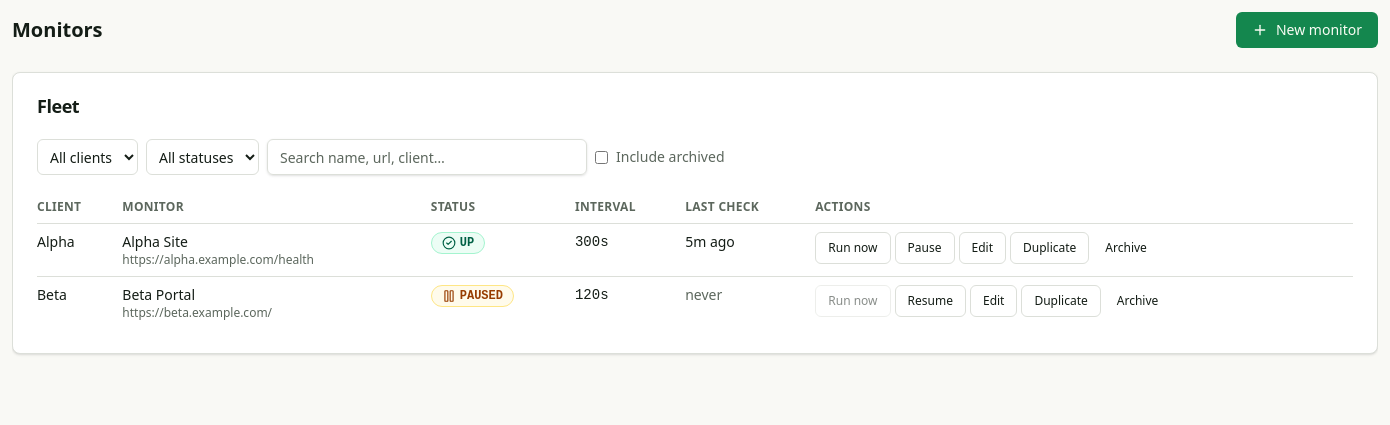
Scenario: MonitorsPage list (PRD §27.4) › resets a stale archived status filter when the include-archived toggle goes off (review I2)
This screenshot has width=1390, height=425.
Expected: the link "Alpha Site" is shown, [122,232,188,251]
Click the checkbox labelled "Include archived" at [602, 157], box [595,150,608,164]
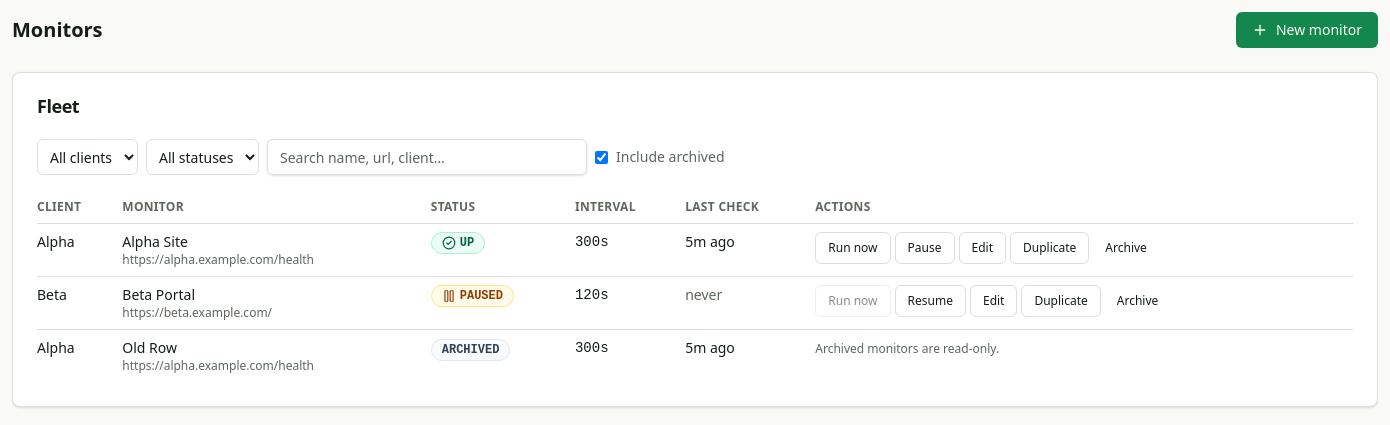
Expected: the link "Old Row" is shown, [122,338,177,357]
Select "Archived" in the 2nd dropdown named "Filter by status" at [202, 157], box [146,139,259,175]
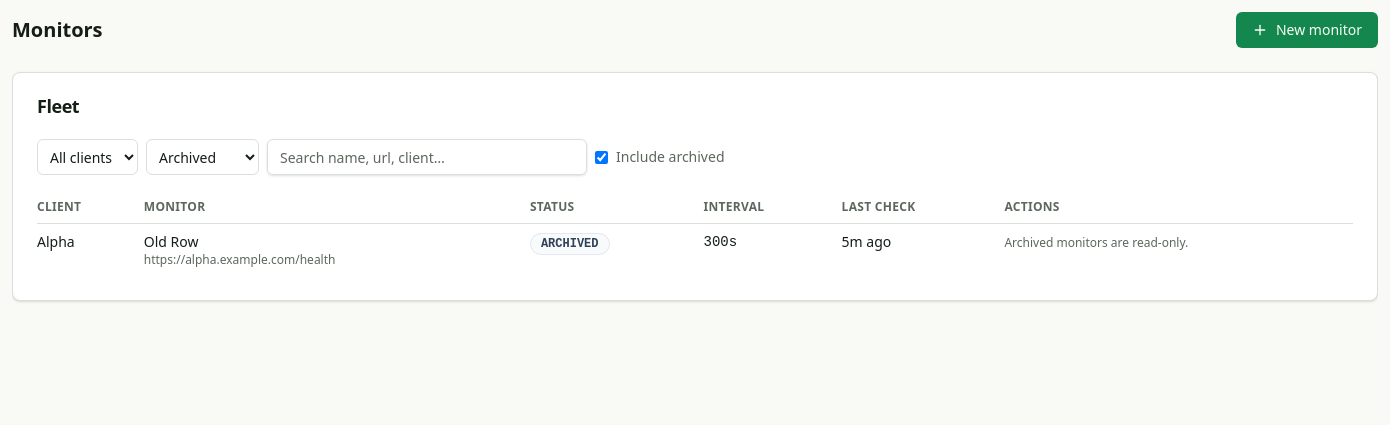
Expected: the link "Alpha Site" is gone
Click the checkbox labelled "Include archived" at [602, 157], box [595,150,608,164]
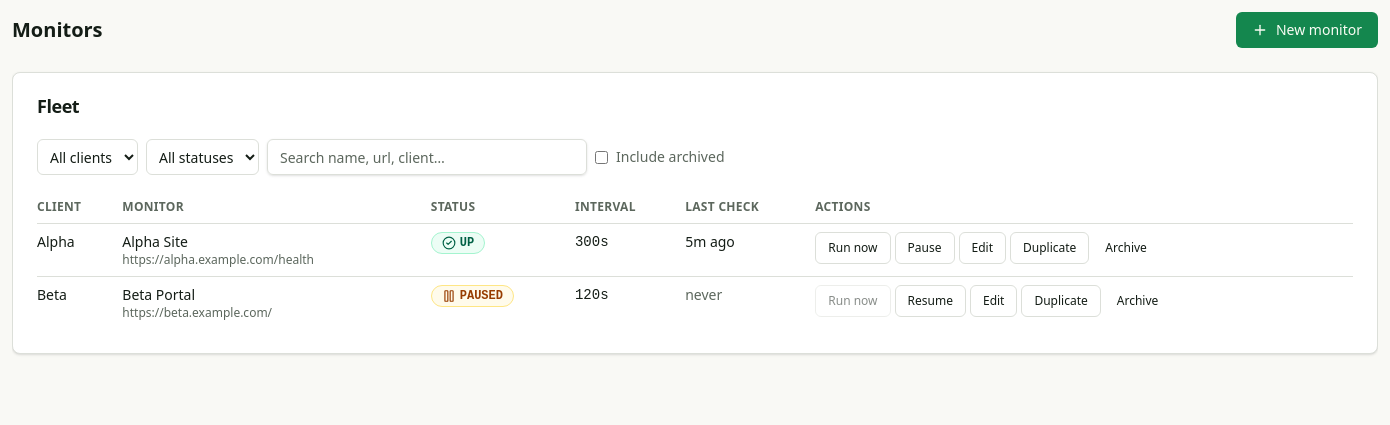
Expected: the link "Alpha Site" is shown, [122,232,188,251]
